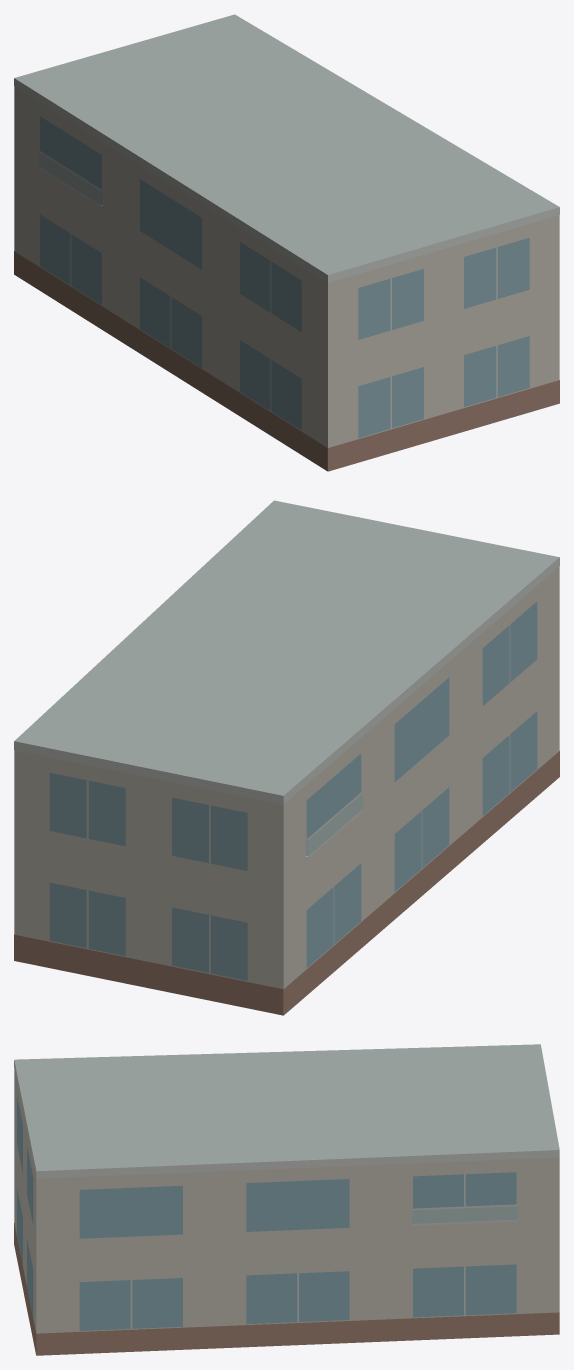
The model's file is survey-upis-32739910.glb.
The picture shows the model from 3 angles, top to bottom: view 1: azimuth 30°, elevation 25°; view 2: azimuth 150°, elevation 25°; view 3: azimuth 270°, elevation 25°; orthographic projection. The views are drawn at different scales.
Parts seen in each view (by area): view 1: survey-upis-32739910.tmp; view 2: survey-upis-32739910.tmp; view 3: survey-upis-32739910.tmp.
Boxes of the visible parts, x1,y1,x2,y2 form: survey-upis-32739910.tmp: (14,14,559,471); survey-upis-32739910.tmp: (14,500,559,1015); survey-upis-32739910.tmp: (14,1044,559,1355).
Size of the model in its own units: 9.02 by 6.1 by 16.37.
